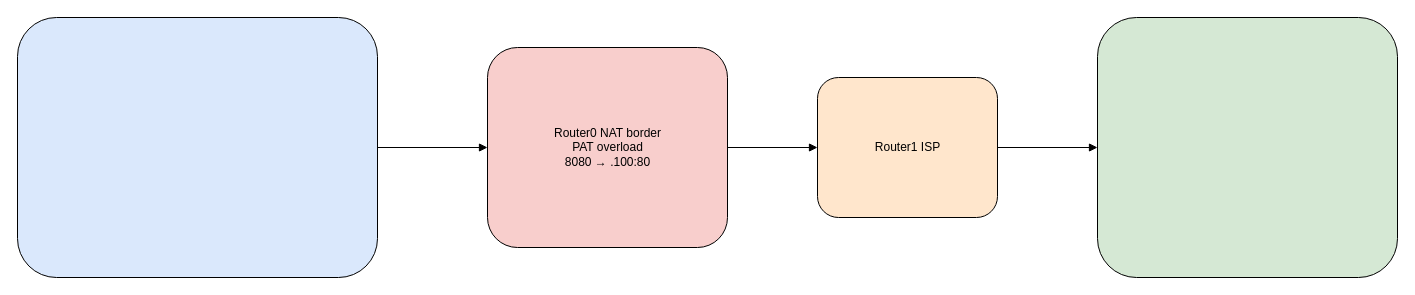
The diagram is 1415 pixels wide and 295 high, and some of its shapes have lost their labels. The centre of each missing label's shape, as x and y in pixels:
Inside LAN PC0 · PC1 Server 192.168.1.100:80: the point at 197,147
Public network Public-Web + Outside-Client: the point at 1247,147
